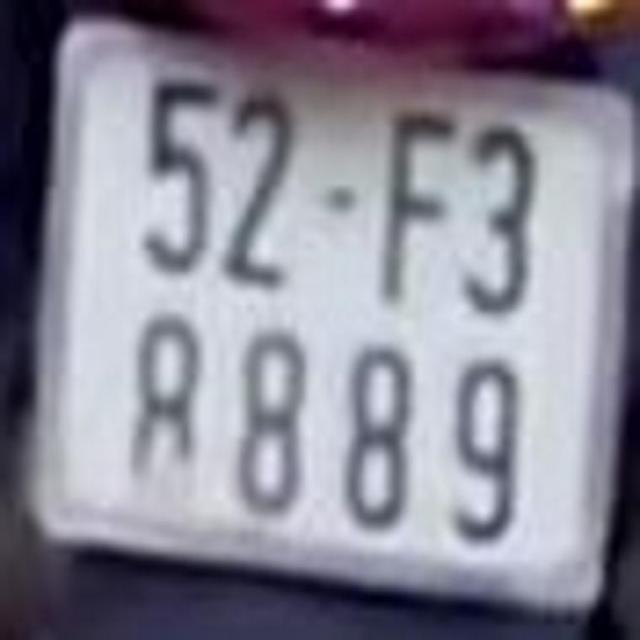2: (225, 90, 299, 290)
3: (464, 122, 536, 317)
5: (150, 78, 214, 276)
8: (124, 308, 204, 508), (238, 324, 308, 518), (342, 340, 414, 526)
9: (449, 356, 522, 550)
F: (382, 110, 455, 310)
